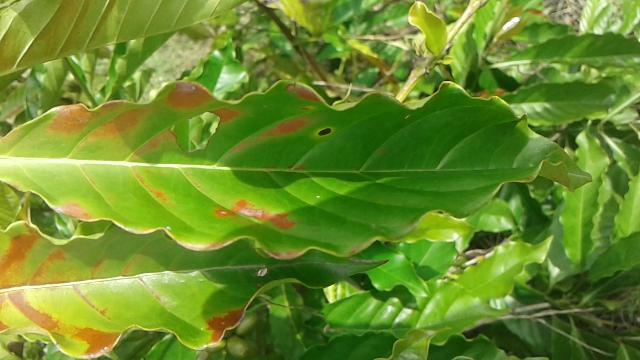red_spider_mite: (0, 75, 599, 260)
